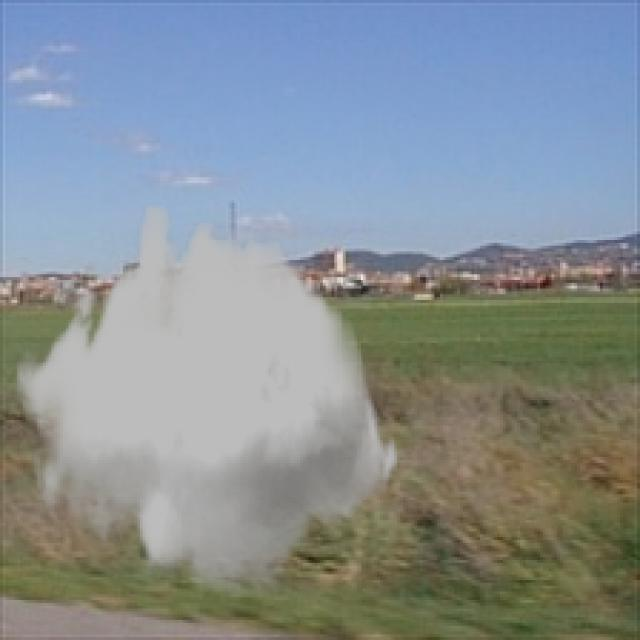Smoke: (14, 205, 400, 598)
